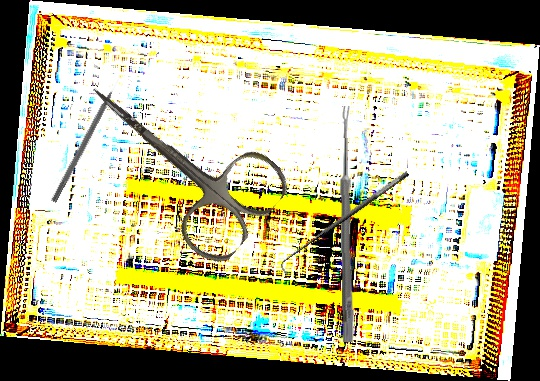Hook Surgical: (273, 168, 417, 278), (50, 73, 125, 205)
Iris Scissors: (55, 41, 297, 273)
Surgical Spoon: (338, 105, 356, 343)
